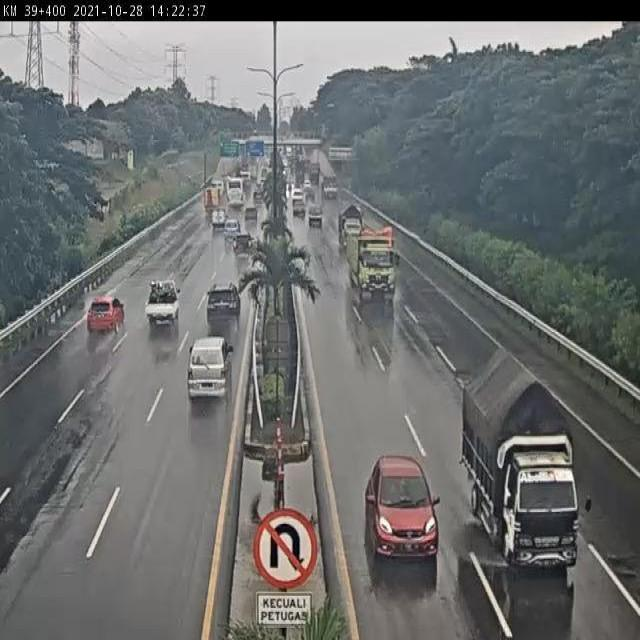car: (146, 280, 182, 324)
truck-l-: (348, 230, 402, 298)
truck-s-: (461, 344, 592, 573), (340, 205, 367, 256)
